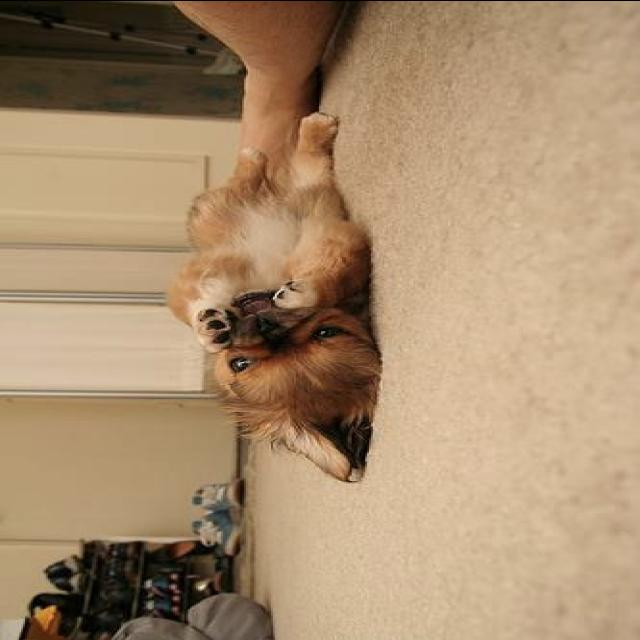pekinese: (160, 110, 384, 490)
